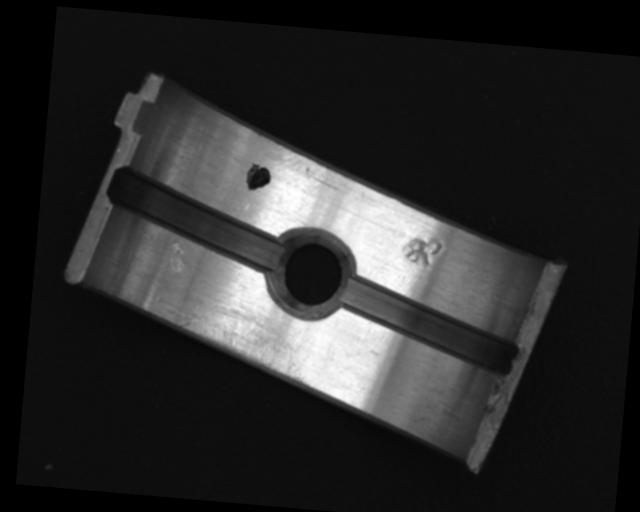blot: (244, 161, 272, 193)
bruise: (400, 233, 444, 269), (167, 239, 188, 275)
gap: (103, 165, 289, 270), (336, 275, 523, 375)
hole: (262, 225, 357, 321)
scratch: (163, 299, 318, 387)
